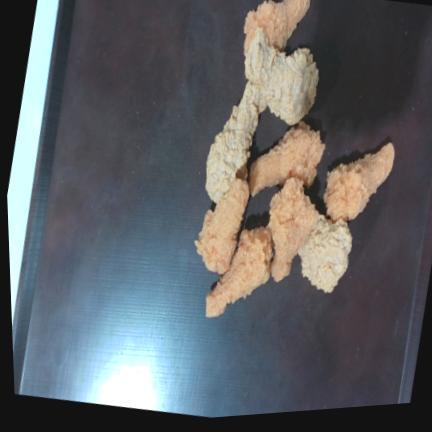chicken: (245, 28, 318, 125), (206, 83, 259, 202), (206, 227, 273, 317), (248, 122, 325, 196), (324, 142, 394, 222), (268, 177, 318, 282), (195, 179, 249, 274), (298, 215, 352, 293), (244, 0, 310, 54)
